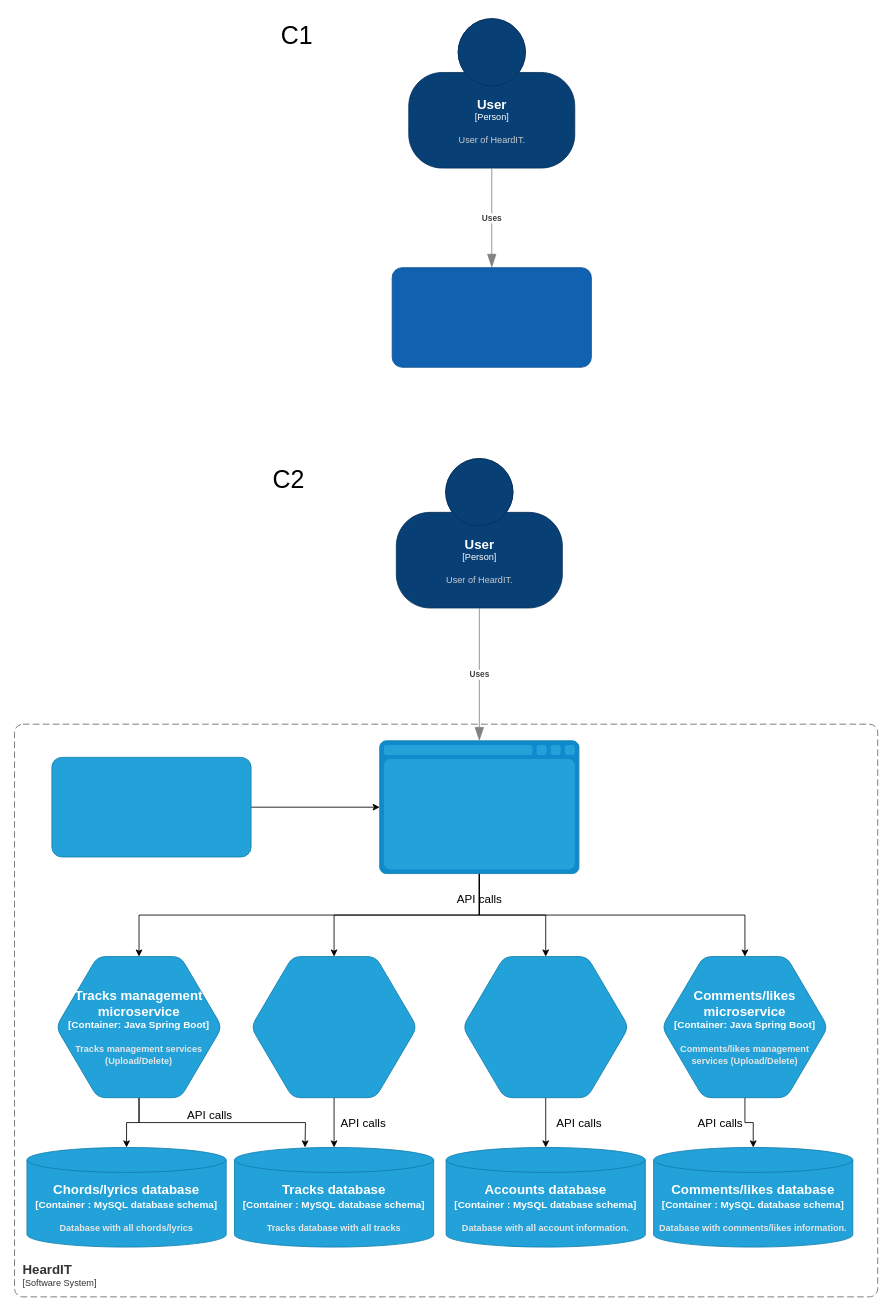
Image size: 892x1311. Some labels were removed from this diagram. The shapes that lost their labels are listed below. From the top down, each one's centre as x and y in pixels, then its label:
point 491,317: HeardIT [Software System] HeardIT web-application.
point 151,807: HeardIT-Front-end [Container: ReactJs] Front-end of HeardIT application.
point 479,807: Container name [Container : ReactJS] HeardIT page application
point 333,1027: Tracks microservice [Container: Java Spring Boot] Tracks playing services
point 545,1027: Account microservice [Container : Java Spring Boot] Account management services
